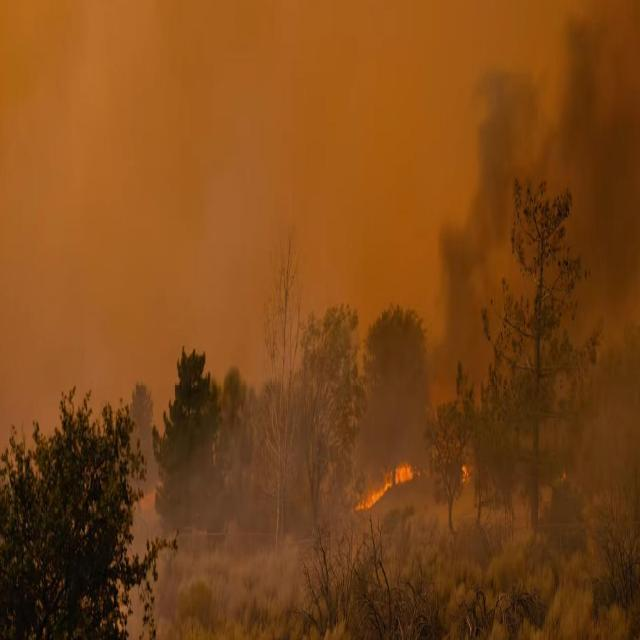Fire: (354, 444, 421, 523), (460, 460, 470, 485)
